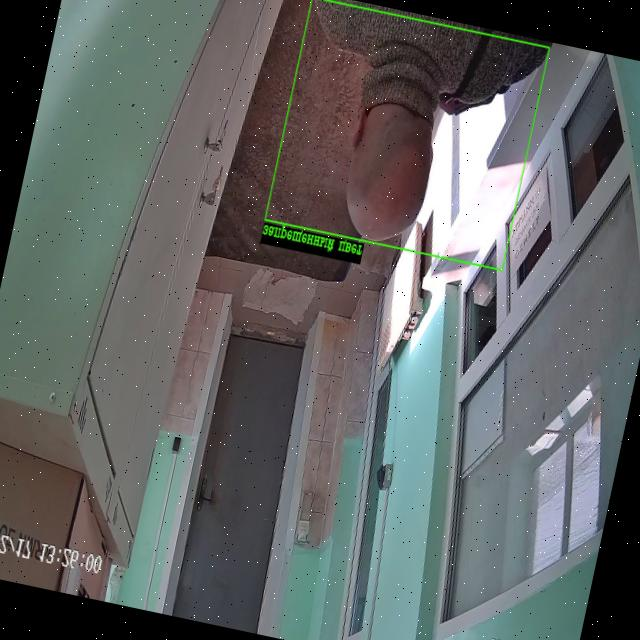Person: (317, 1, 545, 241)
